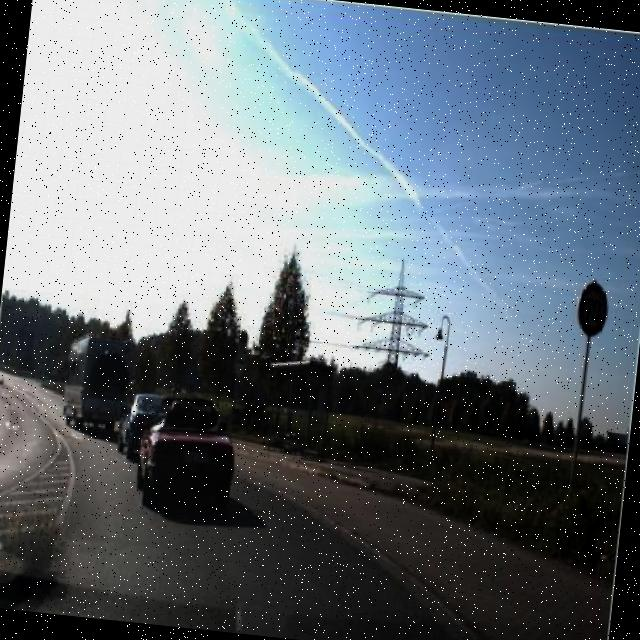Ograniczenie predkosci do 70: (572, 278, 610, 340)
